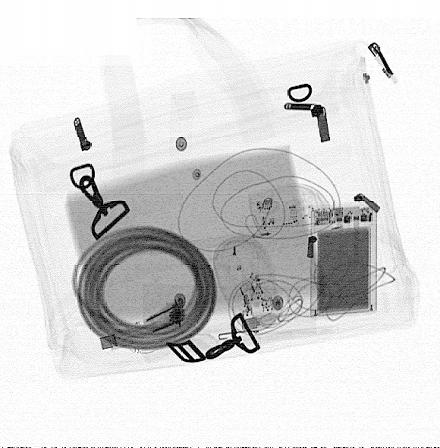Powerbank: (310, 201, 378, 318)
